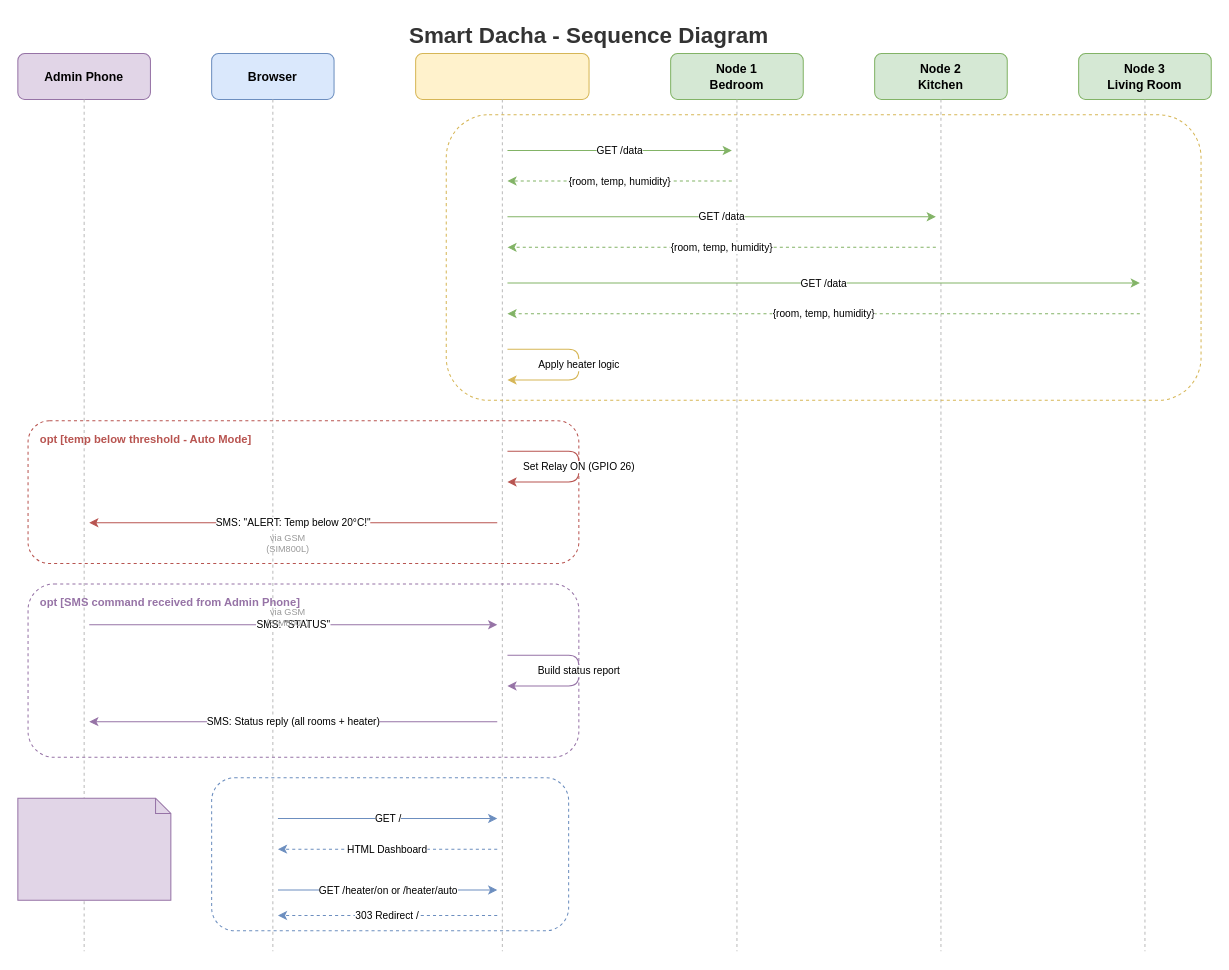
The diagram is 1229 pixels wide and 970 high, and some of its shapes have lost their labels. Here are the shapes that lost their labels. From the top down, the centre of each, then its label:
point 502,76: ESP32 Controller
point 823,257: loop [every 10 seconds]
point 94,848: Valid SMS Commands: STATUS HEATER ON HEATER OFF HEATER AUTO
point 390,854: Dashboard Request
